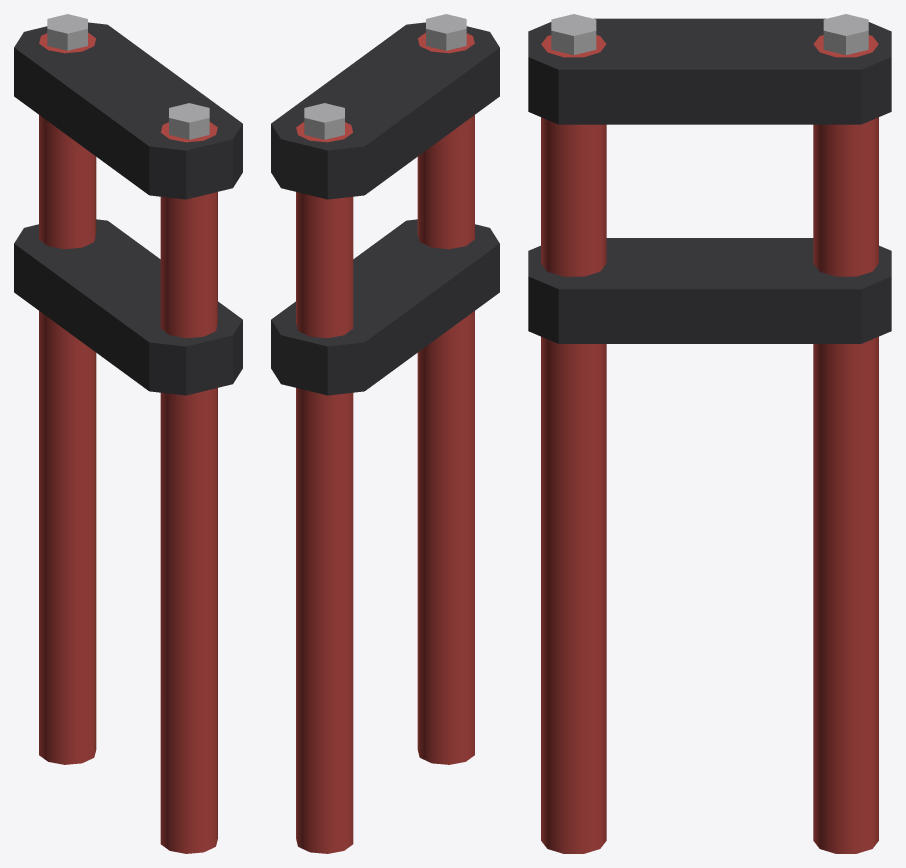
The model's file is chopper_extended_tube_upper_lod1.glb.
3 renders of one model, left to right at view 1: azimuth 30°, elevation 25°; view 2: azimuth 150°, elevation 25°; view 3: azimuth 270°, elevation 25°, orthographic. The views are drawn at different scales.
Parts seen in each view (by area): view 1: chopper_extended_tube_upper_lod1; view 2: chopper_extended_tube_upper_lod1; view 3: chopper_extended_tube_upper_lod1.
Part boxes in pixels (x1,y1,x2,y2): chopper_extended_tube_upper_lod1: (14,14,242,853); chopper_extended_tube_upper_lod1: (271,14,499,853); chopper_extended_tube_upper_lod1: (528,14,891,853).
Bounding box in the file's own units: 0.08 × 0.595 × 0.24.
